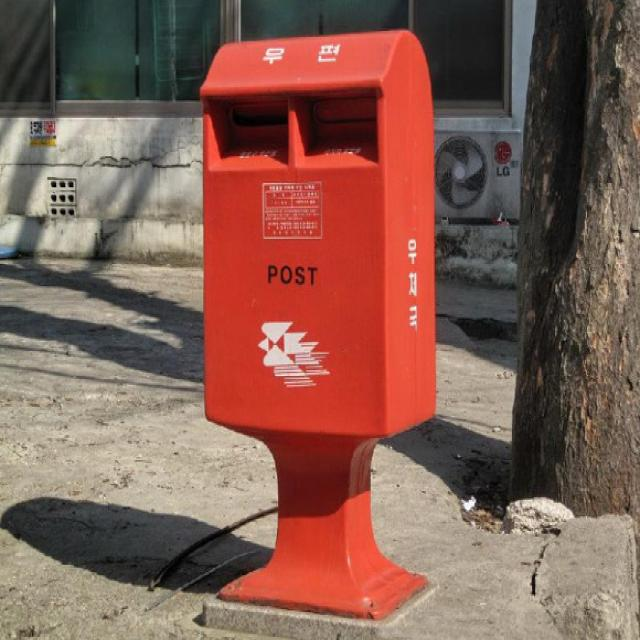Post Box: (196, 26, 438, 625)
